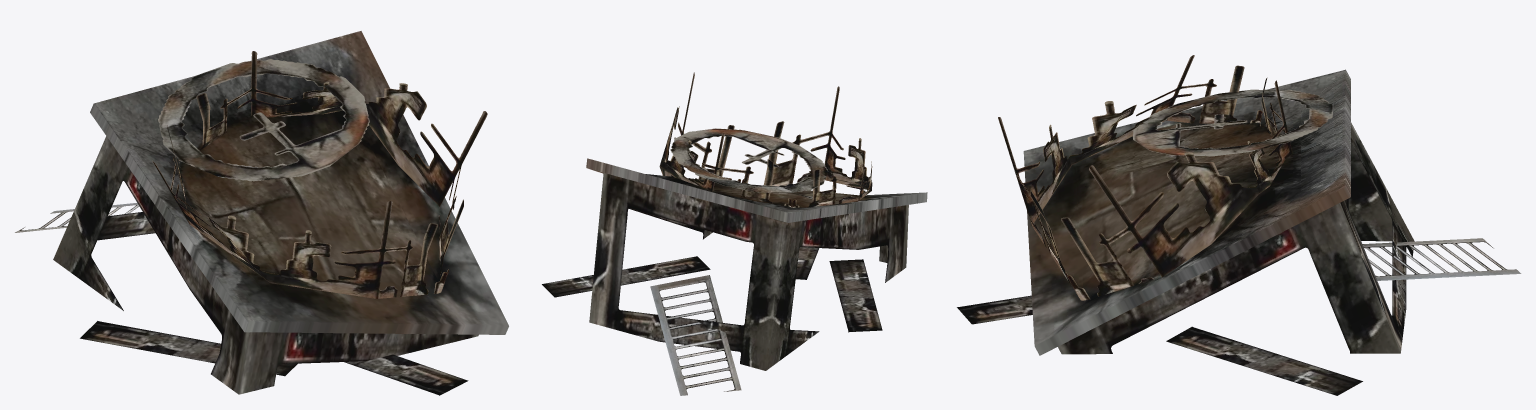
The model's file is watertower_dam_hdtex.glb.
The picture shows the model from 3 angles, left to right: view 1: azimuth 30°, elevation 25°; view 2: azimuth 150°, elevation 25°; view 3: azimuth 270°, elevation 25°; orthographic projection. The views are drawn at different scales.
Parts seen in each view (by area): view 1: WaterTowerDam, LOS_Debris; view 2: WaterTowerDam, LOS_Debris; view 3: WaterTowerDam, LOS_Debris.
Boxes of the visible parts, x1,y1,x2,y2 form: WaterTowerDam: (53,31,508,394); LOS_Debris: (15,203,468,395); WaterTowerDam: (586,72,927,370); LOS_Debris: (542,247,882,395); WaterTowerDam: (998,55,1414,355); LOS_Debris: (957,238,1521,395).
Size of the model in its own units: 8.67 by 5.73 by 11.03.
Materials: 1 (1 with a texture image).
